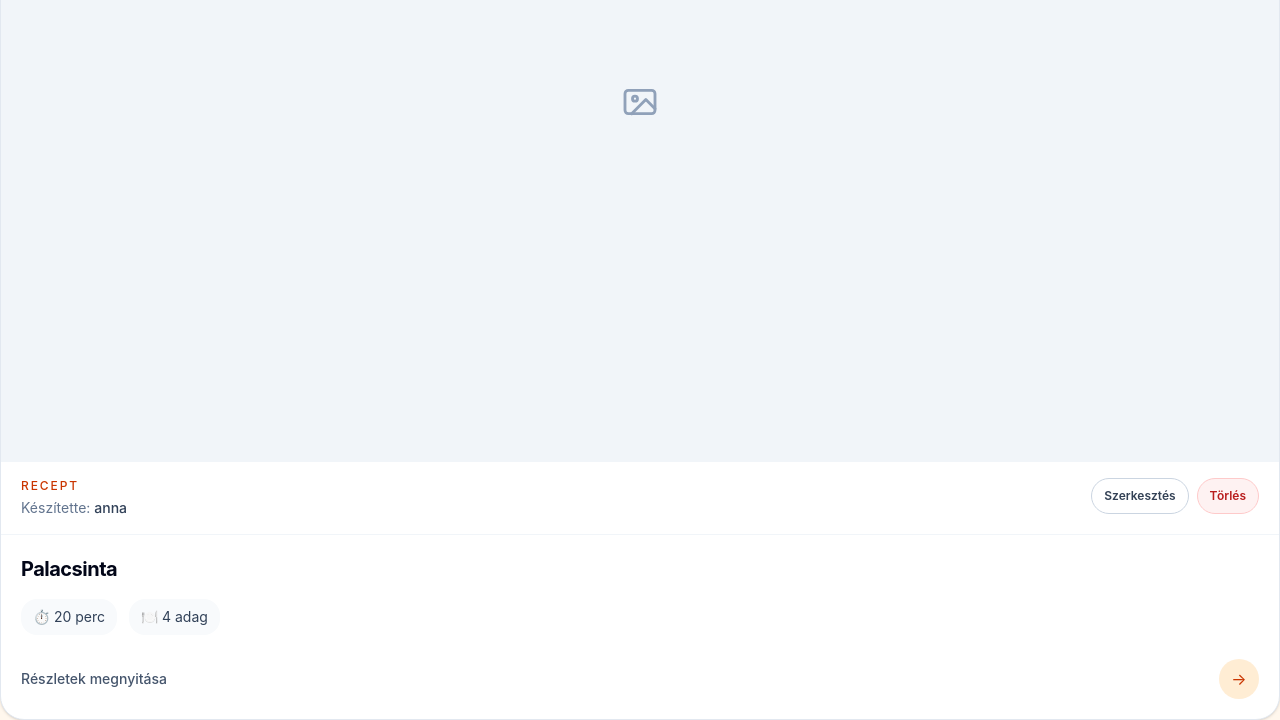
Test case: RecipeCard › shows the delete error from the mutation
The image size is (1280, 720).
(page scrolled)
What coordinates should you click on to do the following:
click the button "Törlés"
I would click on:
 (1228, 496)
Its box is [1197,478,1259,514].
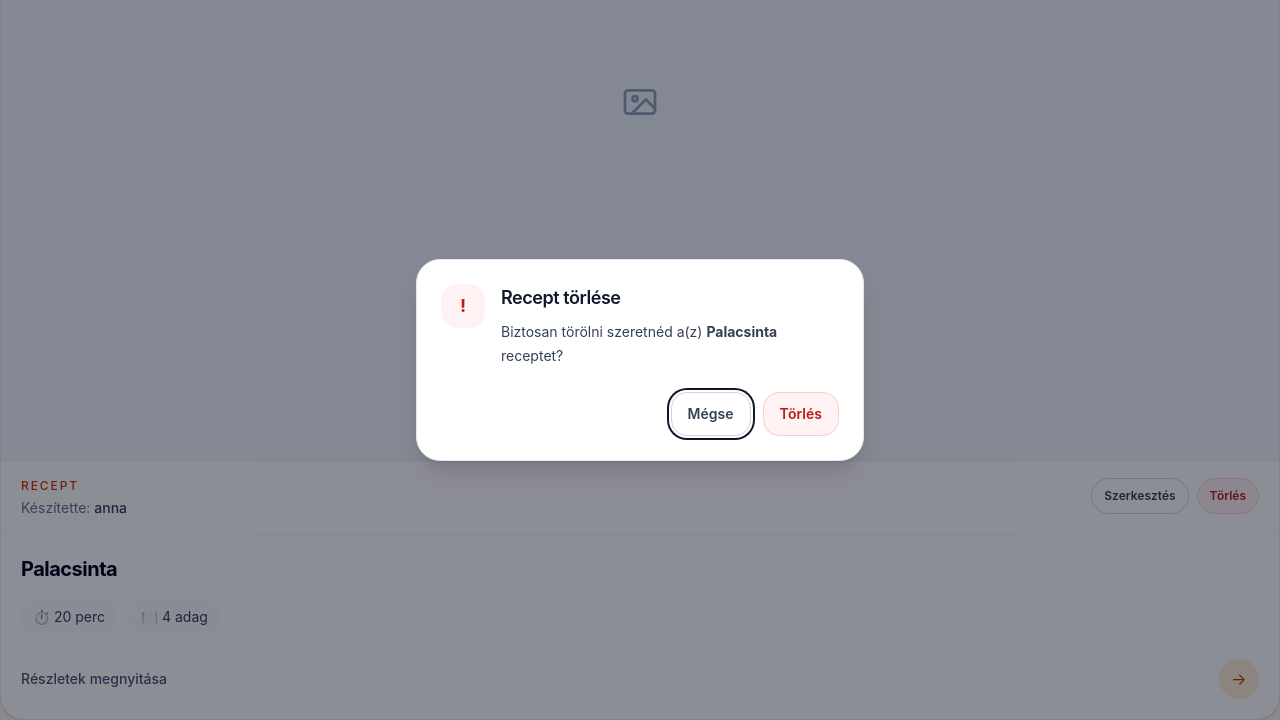
What coordinates should you click on to do the following:
click the button "Törlés"
I would click on:
 (801, 414)
Its box is [762,392,839,436].
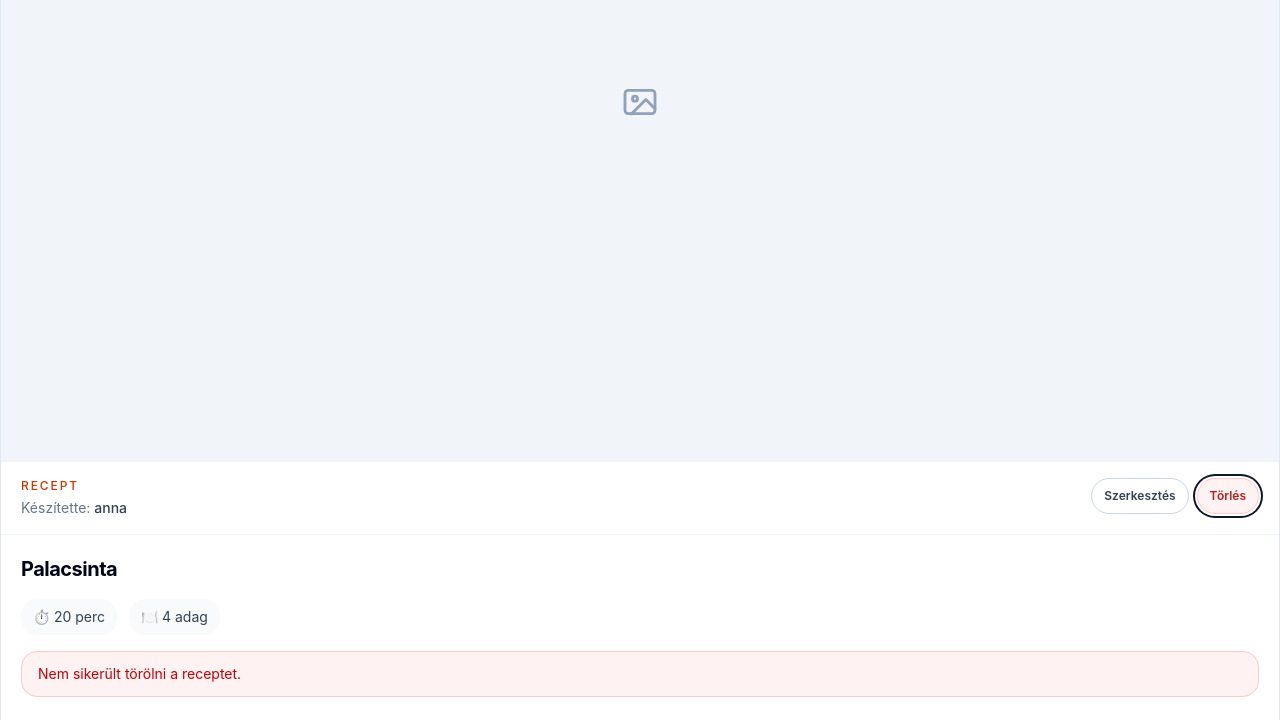
Expected: the message reads "Nem sikerült törölni a receptet.", [38,665,241,682]
